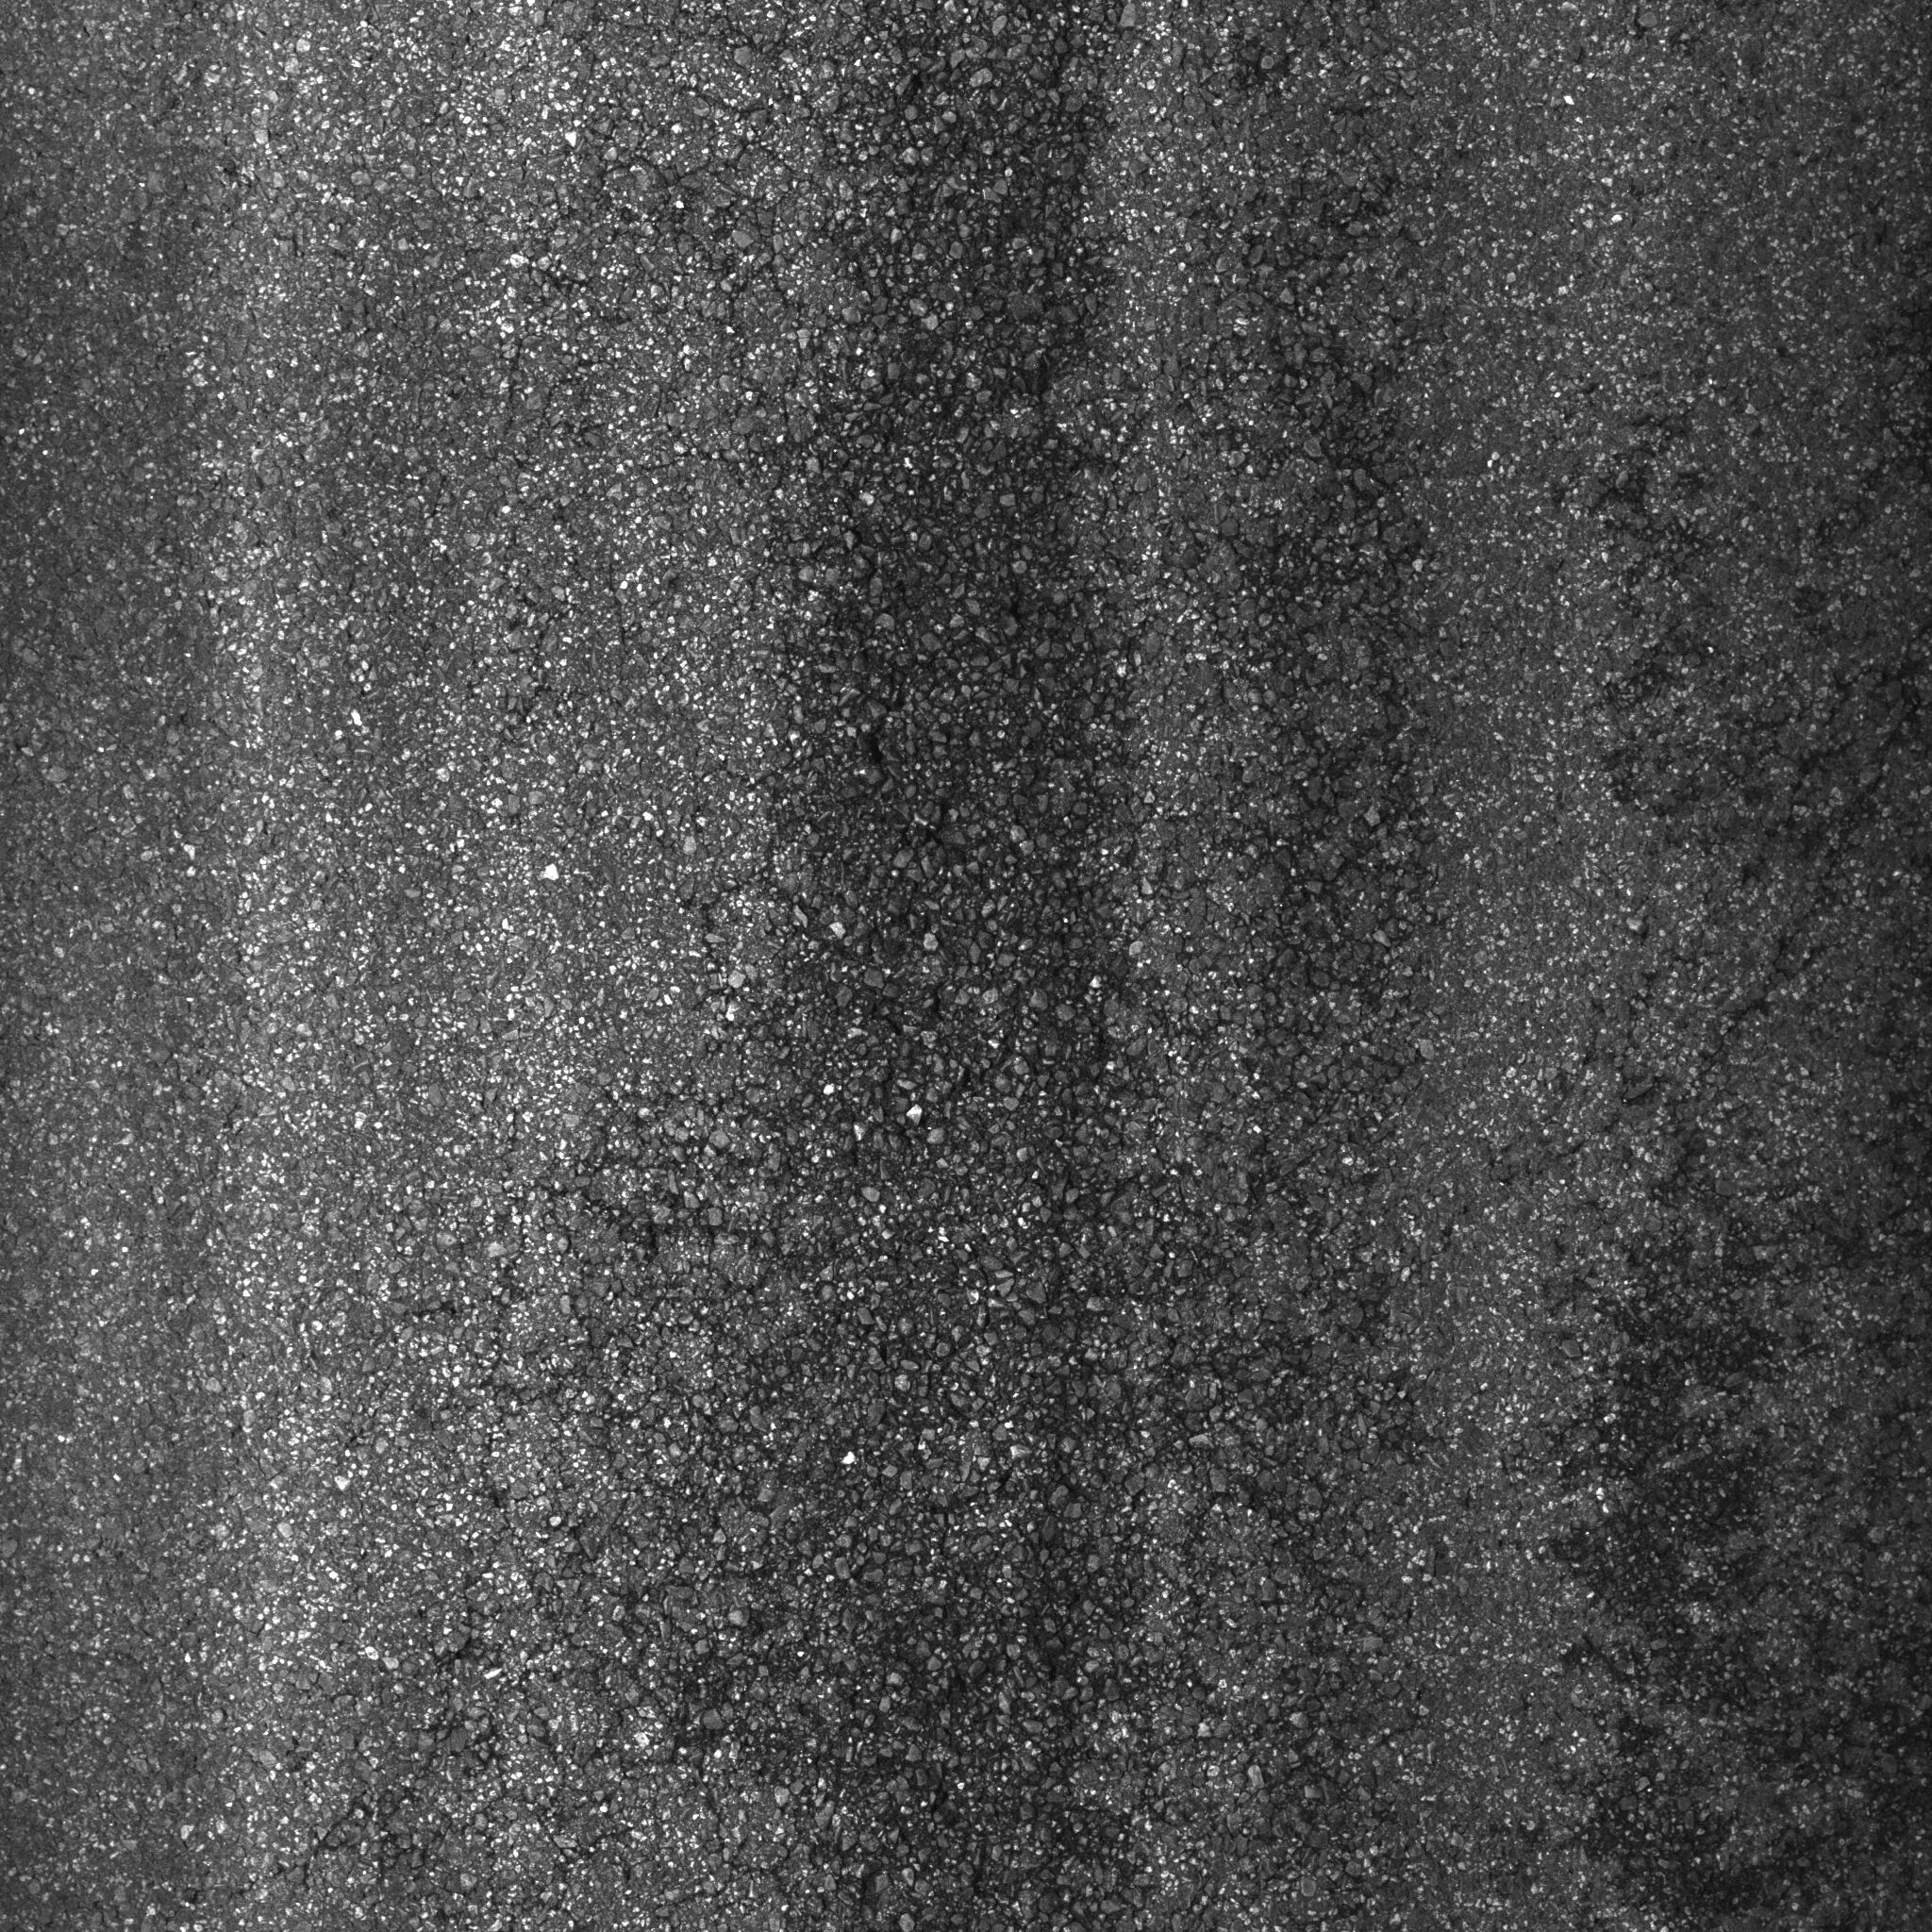alligator: (534, 12, 1824, 1845)
